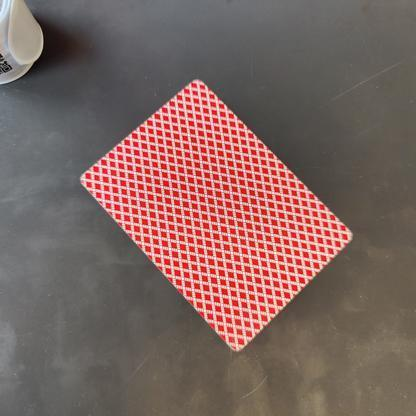card: (64, 69, 369, 365)
